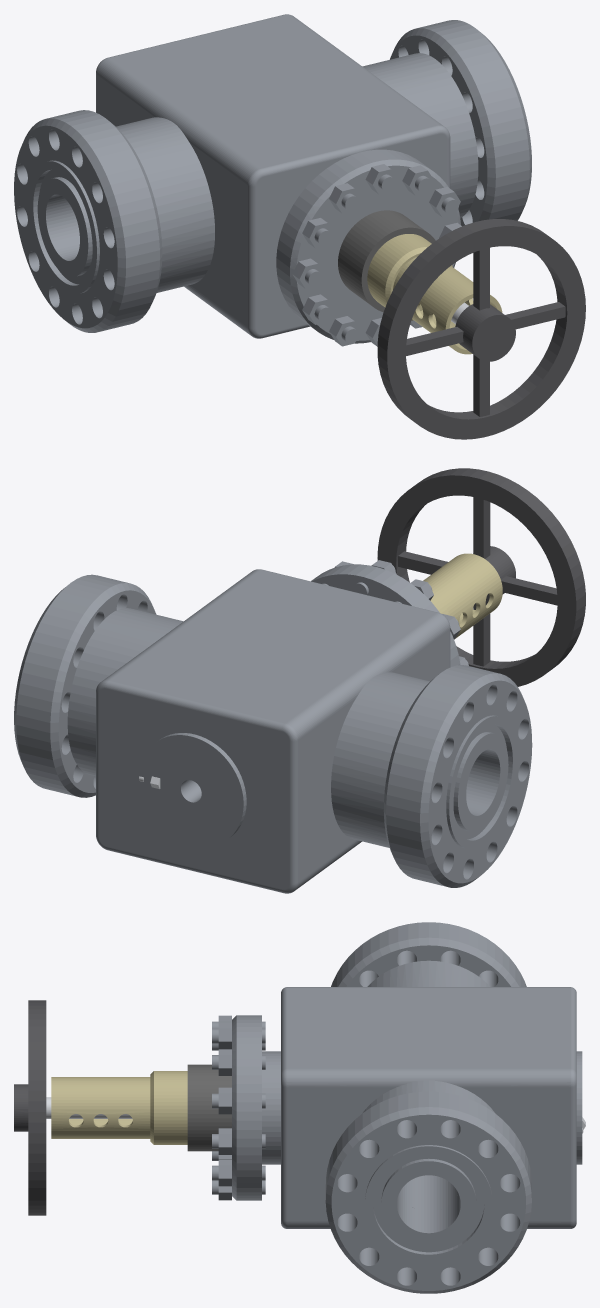
The model's file is WH-GATEVALVE.5-15K.glb.
3 views of the same model, one above another, from view 1: azimuth 30°, elevation 25°; view 2: azimuth 150°, elevation 25°; view 3: azimuth 270°, elevation 25° (orthographic). The views are drawn at different scales.
Visible parts, largest first — view 1: WH-GATEVALVE-BODY, WH-GATEVALVE-FLANGE-IN, WH-GATEVALVE-HANDWHEEL, WH-GATEVALVE-BONNET, WH-GATEVALVE-FLANGE-OUT, WH-GATEVALVE-BEARING, WH-GATEVALVE-PACKING; view 2: WH-GATEVALVE-BODY, WH-GATEVALVE-FLANGE-IN, WH-GATEVALVE-HANDWHEEL, WH-GATEVALVE-FLANGE-OUT, WH-GATEVALVE-BEARING, WH-GATEVALVE-BONNET; view 3: WH-GATEVALVE-BODY, WH-GATEVALVE-FLANGE-OUT, WH-GATEVALVE-BONNET, WH-GATEVALVE-BEARING, WH-GATEVALVE-FLANGE-IN, WH-GATEVALVE-HANDWHEEL, WH-GATEVALVE-PACKING.
Boxes of the visible parts, x1,y1,x2,y2 form: WH-GATEVALVE-BODY: (96,14,478,338); WH-GATEVALVE-FLANGE-IN: (14,110,162,332); WH-GATEVALVE-HANDWHEEL: (377,219,585,439); WH-GATEVALVE-BONNET: (276,149,461,346); WH-GATEVALVE-FLANGE-OUT: (390,20,531,226); WH-GATEVALVE-BEARING: (367,234,502,354); WH-GATEVALVE-PACKING: (338,210,435,312); WH-GATEVALVE-BODY: (67,569,450,893); WH-GATEVALVE-FLANGE-IN: (383,665,532,887); WH-GATEVALVE-HANDWHEEL: (377,468,585,686); WH-GATEVALVE-FLANGE-OUT: (14,574,156,797); WH-GATEVALVE-BEARING: (423,553,502,638); WH-GATEVALVE-BONNET: (311,560,468,667); WH-GATEVALVE-BODY: (262,960,582,1228); WH-GATEVALVE-FLANGE-OUT: (325,1091,531,1293); WH-GATEVALVE-BONNET: (212,1015,265,1200); WH-GATEVALVE-BEARING: (51,1071,187,1144); WH-GATEVALVE-FLANGE-IN: (331,922,526,986); WH-GATEVALVE-HANDWHEEL: (14,1000,46,1215); WH-GATEVALVE-PACKING: (187,1064,231,1151).
Size of the model in its own units: 0.9271 by 0.4386 by 1.16.
